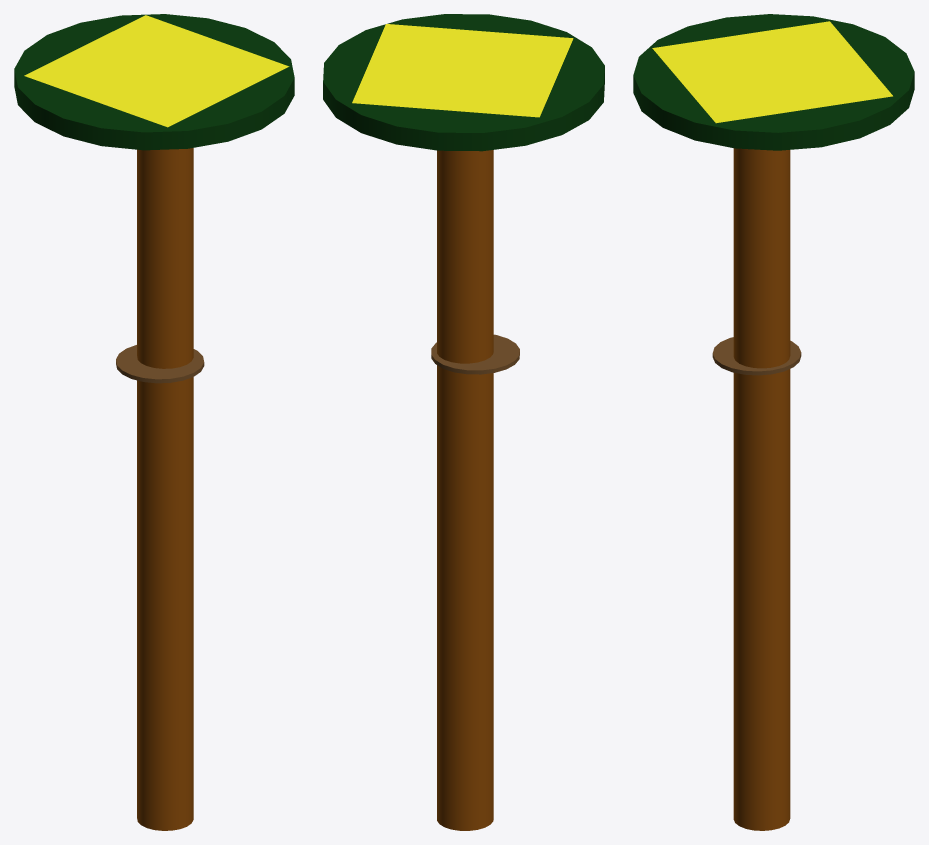
The model's file is Home 01.fbx.
3 views of the same model, side by side, from view 1: azimuth 30°, elevation 25°; view 2: azimuth 150°, elevation 25°; view 3: azimuth 270°, elevation 25° (orthographic).
Parts seen in each view (by area): view 1: Tree_02__1_, Branches, Plane__3_, Platform__3_; view 2: Tree_02__1_, Branches, Plane__3_, Platform__3_; view 3: Tree_02__1_, Branches, Plane__3_, Platform__3_.
Boxes of the visible parts, left/top/right/bottom form: Tree_02__1_: left=137, top=148, right=193, bottom=830; Branches: left=14, top=14, right=294, bottom=150; Plane__3_: left=24, top=15, right=289, bottom=127; Platform__3_: left=116, top=345, right=204, bottom=383; Tree_02__1_: left=437, top=150, right=493, bottom=830; Branches: left=323, top=14, right=604, bottom=151; Plane__3_: left=352, top=24, right=573, bottom=117; Platform__3_: left=431, top=334, right=519, bottom=374; Tree_02__1_: left=733, top=148, right=790, bottom=830; Branches: left=633, top=14, right=914, bottom=150; Plane__3_: left=652, top=21, right=892, bottom=123; Platform__3_: left=712, top=337, right=801, bottom=375.
Bounding box in the file's own units: 5370 × 15699 × 5370.
